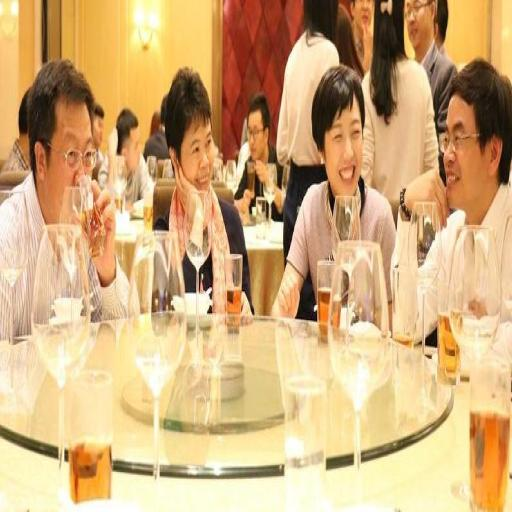person: (272, 65, 395, 317), (393, 58, 511, 282), (0, 60, 95, 335), (156, 68, 251, 314), (277, 0, 338, 260), (362, 0, 438, 201), (406, 0, 456, 136), (235, 93, 284, 220), (98, 108, 152, 209), (2, 89, 30, 172), (335, 5, 364, 78), (350, 0, 373, 73), (143, 96, 168, 160), (93, 103, 104, 164), (436, 0, 448, 53)
